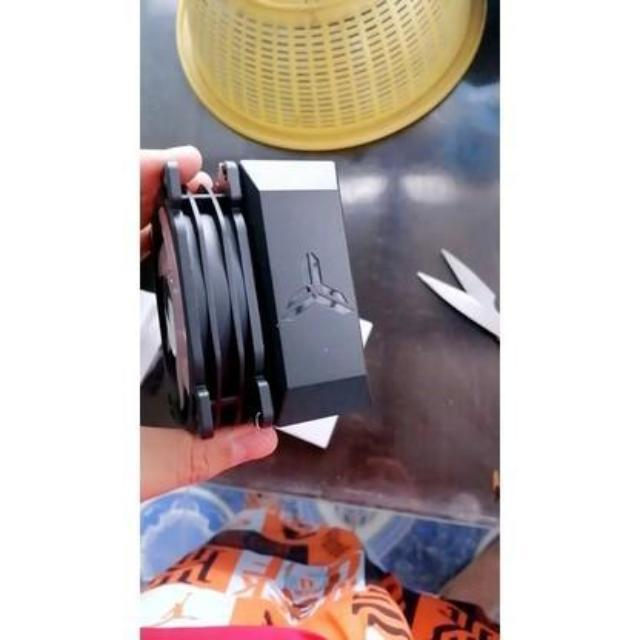CPU_Fan: (156, 162, 367, 440)
